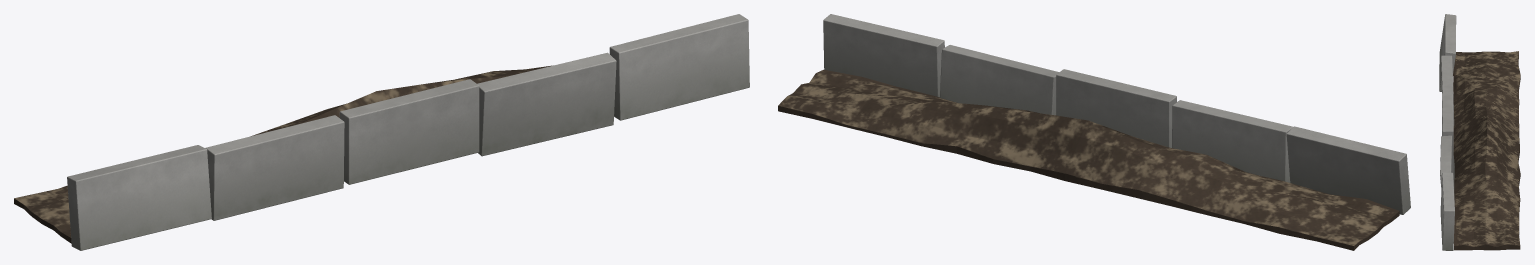
Rendered from edging_run.glb.
3 views of the same model, side by side, from view 1: azimuth 30°, elevation 25°; view 2: azimuth 150°, elevation 25°; view 3: azimuth 270°, elevation 25° (orthographic). The views are drawn at different scales.
Visible parts, largest first — view 1: edging_run_WearBedConcreteEdg, edging_run_WearBedSoilEdg; view 2: edging_run_WearBedSoilEdg, edging_run_WearBedConcreteEdg; view 3: edging_run_WearBedSoilEdg, edging_run_WearBedConcreteEdg.
Boxes of the visible parts, x1,y1,x2,y2 form: edging_run_WearBedConcreteEdg: [67, 14, 749, 250]; edging_run_WearBedSoilEdg: [14, 65, 551, 243]; edging_run_WearBedSoilEdg: [778, 69, 1399, 250]; edging_run_WearBedConcreteEdg: [823, 14, 1410, 214]; edging_run_WearBedSoilEdg: [1453, 51, 1520, 250]; edging_run_WearBedConcreteEdg: [1439, 14, 1456, 250].
Bounding box in the file's own units: 2.3 × 0.242 × 0.4023.
2 materials, 2 textured.
